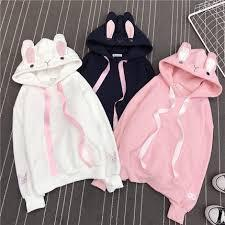sweater: (11, 34, 117, 210), (117, 44, 217, 221)
